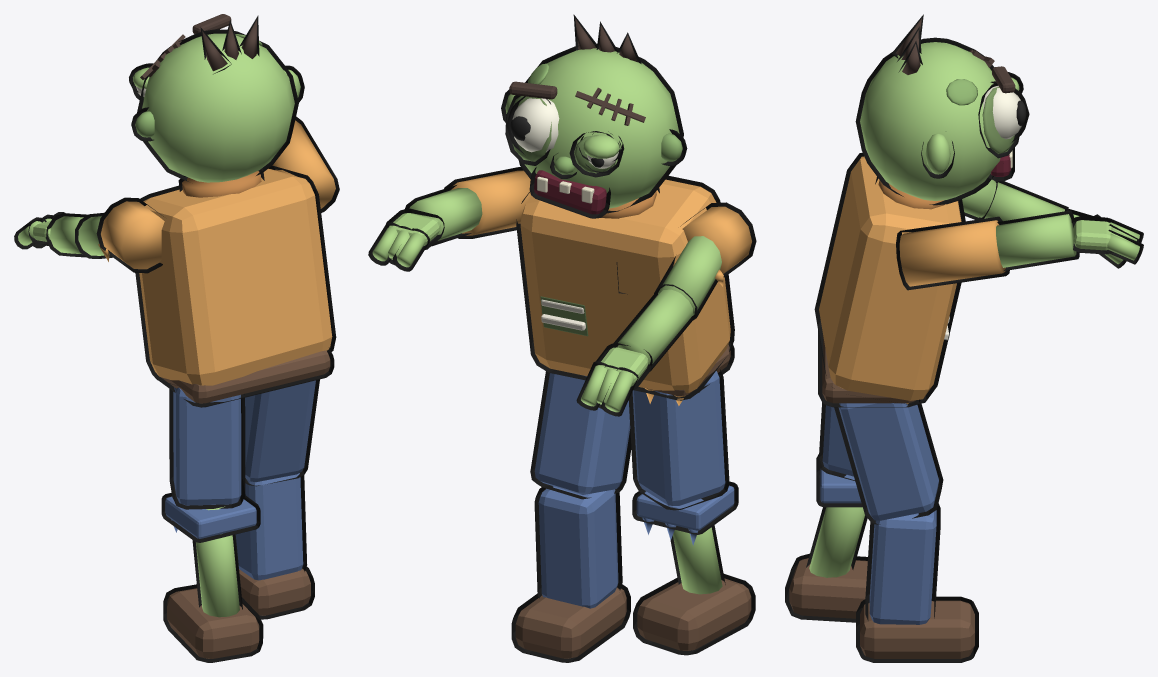
Rendered from zombie_model.glb.
3 renders of one model, left to right at view 1: azimuth 30°, elevation 25°; view 2: azimuth 150°, elevation 25°; view 3: azimuth 270°, elevation 25°, orthographic. The views are drawn at different scales.
Visible parts, largest first — view 1: Shambler.001; view 2: Shambler.001; view 3: Shambler.001.
Part boxes in pixels (<box>): Shambler.001: <box>14,14,339,662</box>; Shambler.001: <box>368,14,756,662</box>; Shambler.001: <box>785,14,1143,662</box>.
Size of the model in its own units: 0.8084 by 1.88 by 0.9991.
